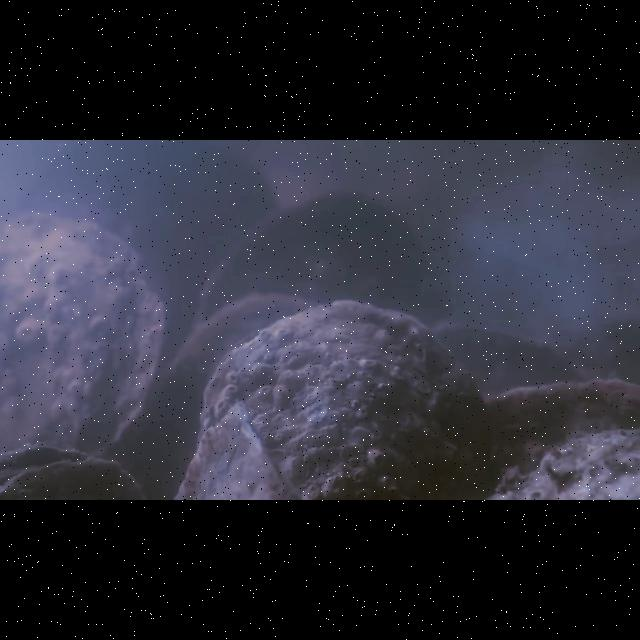Oyster-Closed: (168, 300, 500, 499), (3, 209, 172, 455), (479, 377, 640, 500), (3, 457, 153, 497), (1, 443, 89, 481)
